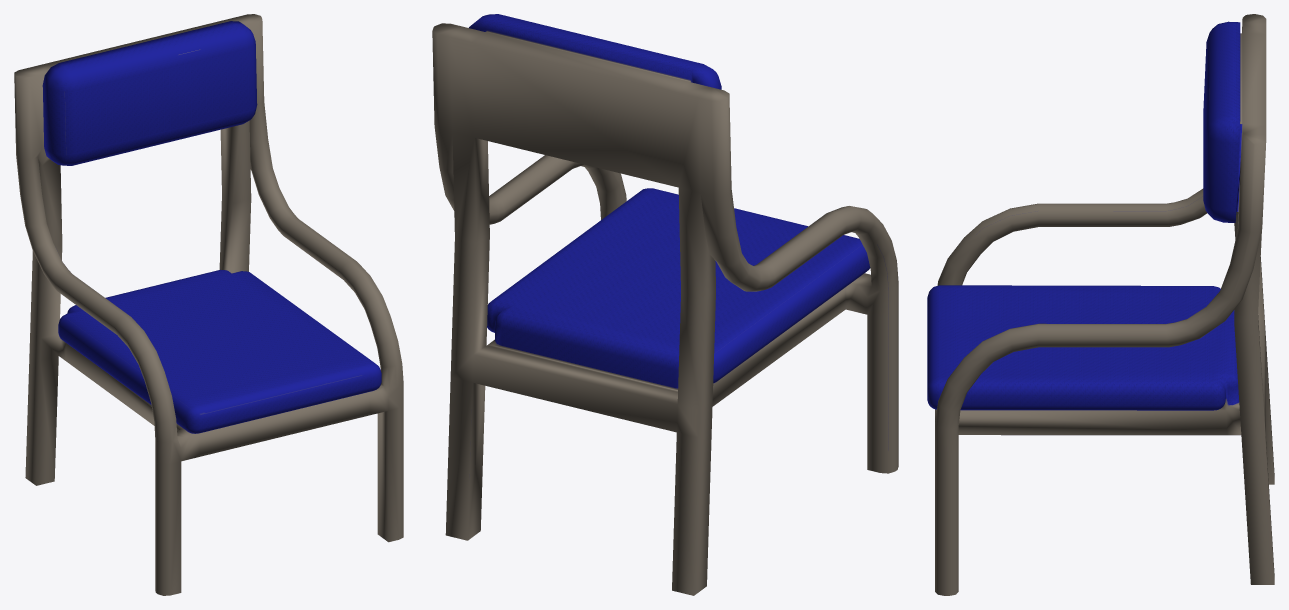
File: ChairV2.fbx
3 views of the same model, side by side, from view 1: azimuth 30°, elevation 25°; view 2: azimuth 150°, elevation 25°; view 3: azimuth 270°, elevation 25° (orthographic). The views are drawn at different scales.
Visible parts, largest first — view 1: Cube; view 2: Cube; view 3: Cube.
Boxes of the visible parts, <box> form: Cube: <box>14,14,403,595</box>; Cube: <box>432,14,898,595</box>; Cube: <box>927,14,1274,595</box>.
Size of the model in its own units: 69.68 by 115 by 78.48.
1 material, 1 textured.
